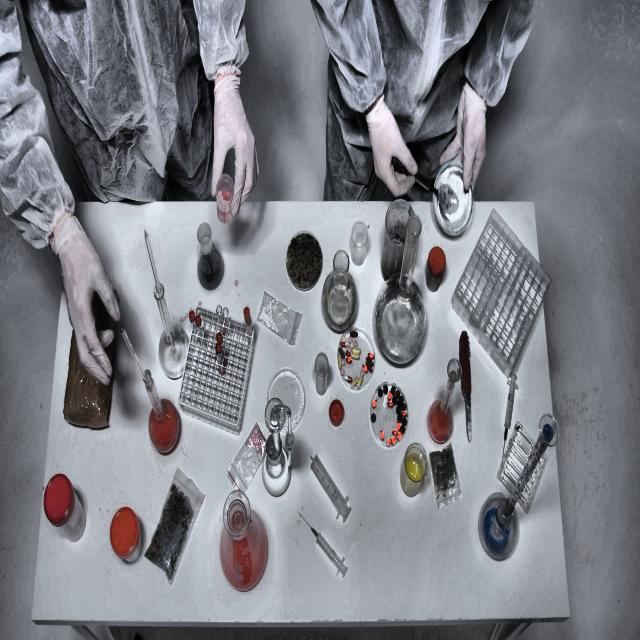gloved: (45, 202, 128, 394), (191, 62, 278, 226), (361, 100, 428, 212), (440, 81, 490, 205)
